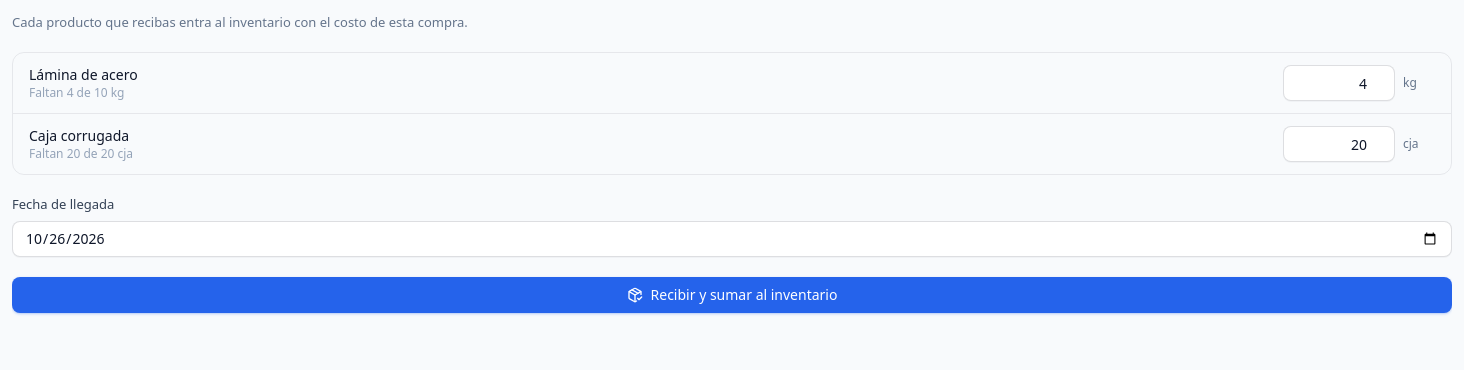
ReceivePurchaseForm › rejects receiving more than what is missing, or nothing at all
Replace the text in the number field named "Cantidad recibida de Lámina de acero" with "9" at (1339, 83), box [1283, 65, 1395, 101]
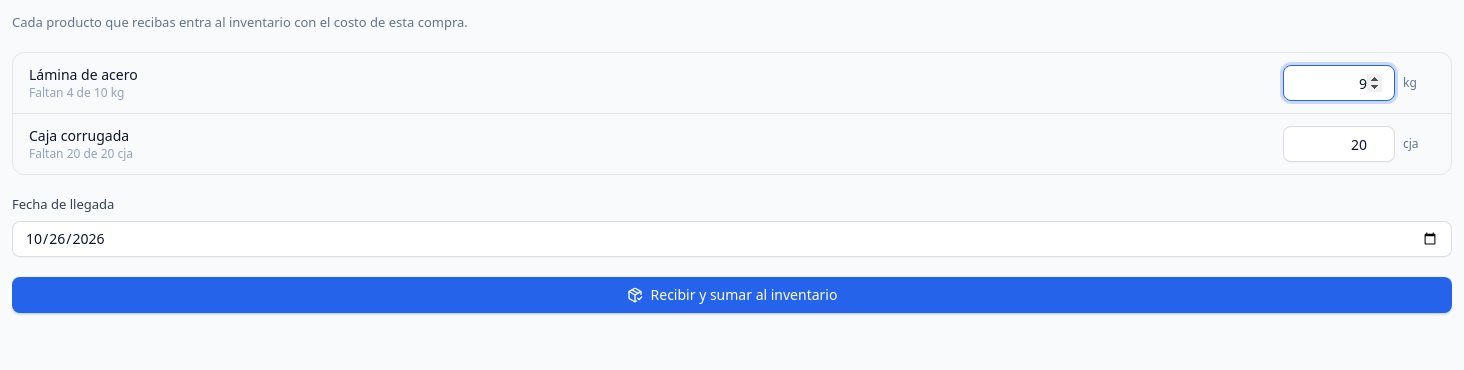
Click the button "Recibir y sumar al inventario" at (732, 294), box [12, 276, 1452, 312]
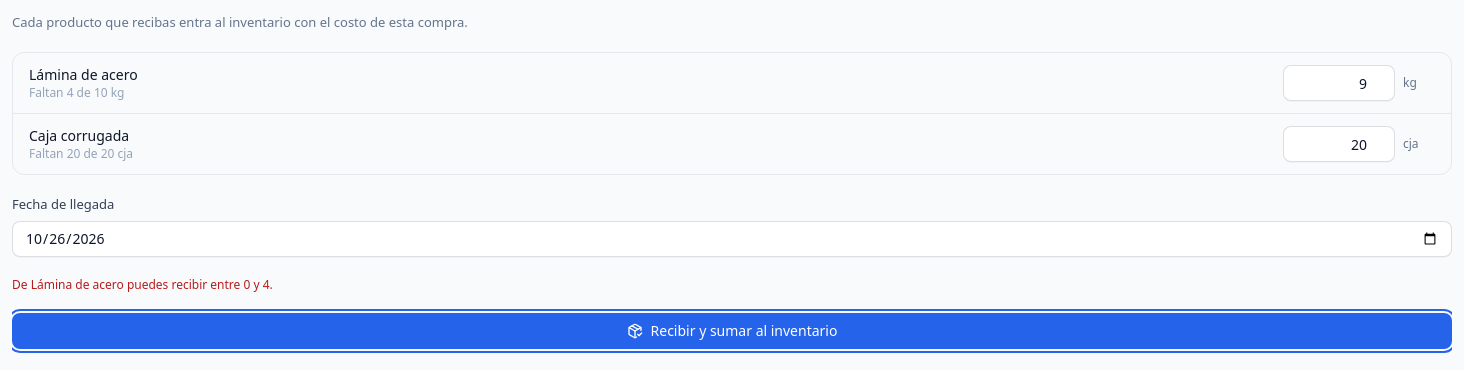
Result: the text "De Lámina de acero puedes recibir entre 0 y 4." is shown at [12, 276, 273, 292]
Clear the number field named "Cantidad recibida de Lámina de acero" at (1339, 83), box [1283, 65, 1395, 101]
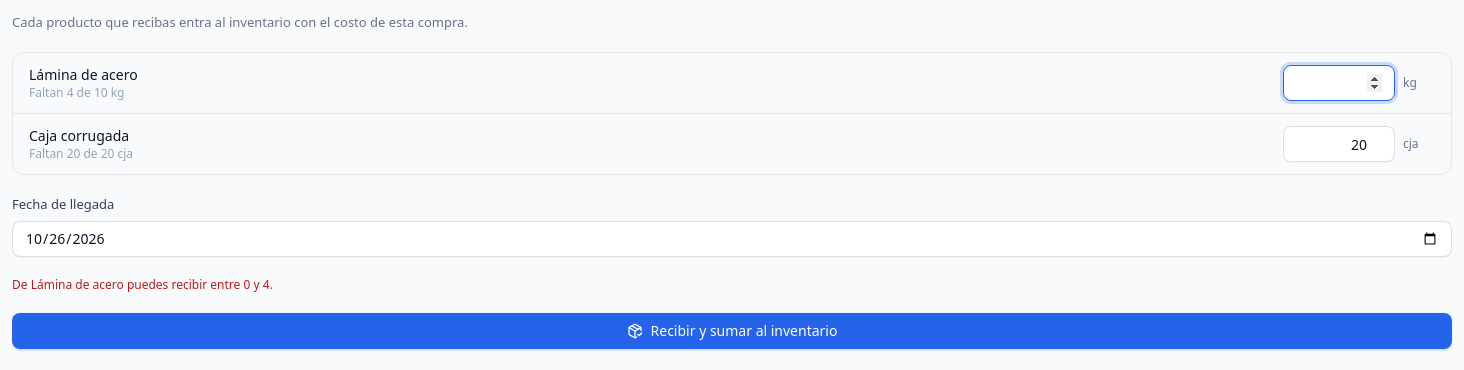
Clear the number field named "Cantidad recibida de Caja corrugada" at (1339, 144), box [1283, 126, 1395, 162]
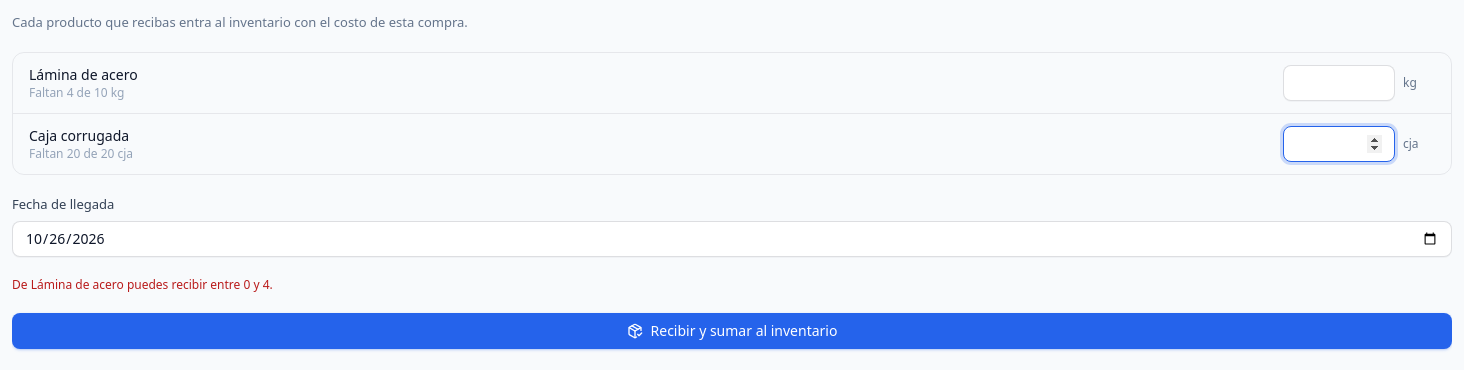
Click the button "Recibir y sumar al inventario" at (732, 330), box [12, 312, 1452, 348]
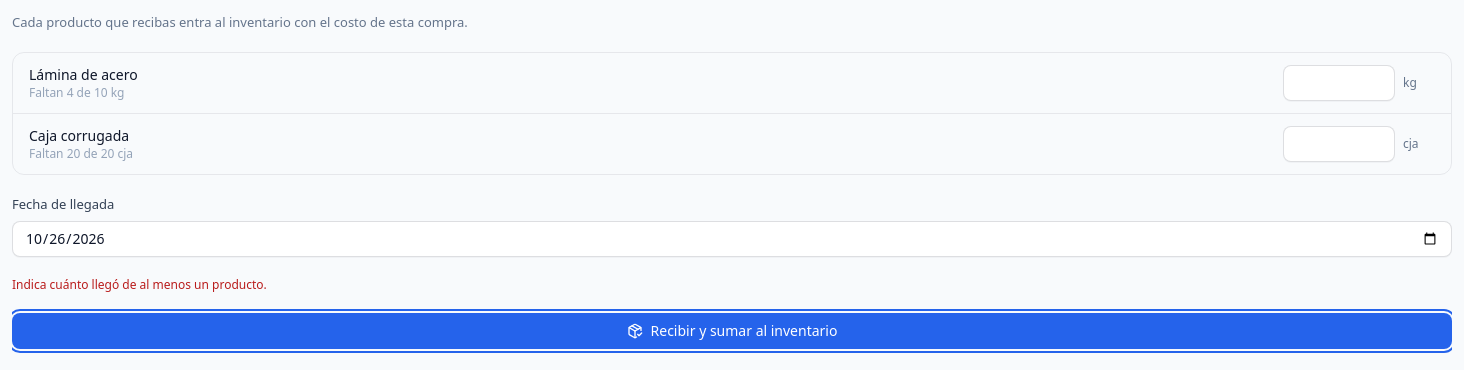
Result: the text "Indica cuánto llegó de al menos un producto." is shown at [12, 276, 267, 292]
